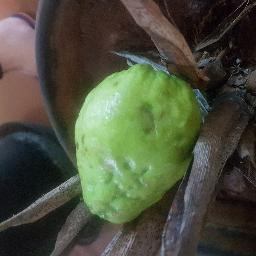Good_guava: (66, 58, 213, 231)
